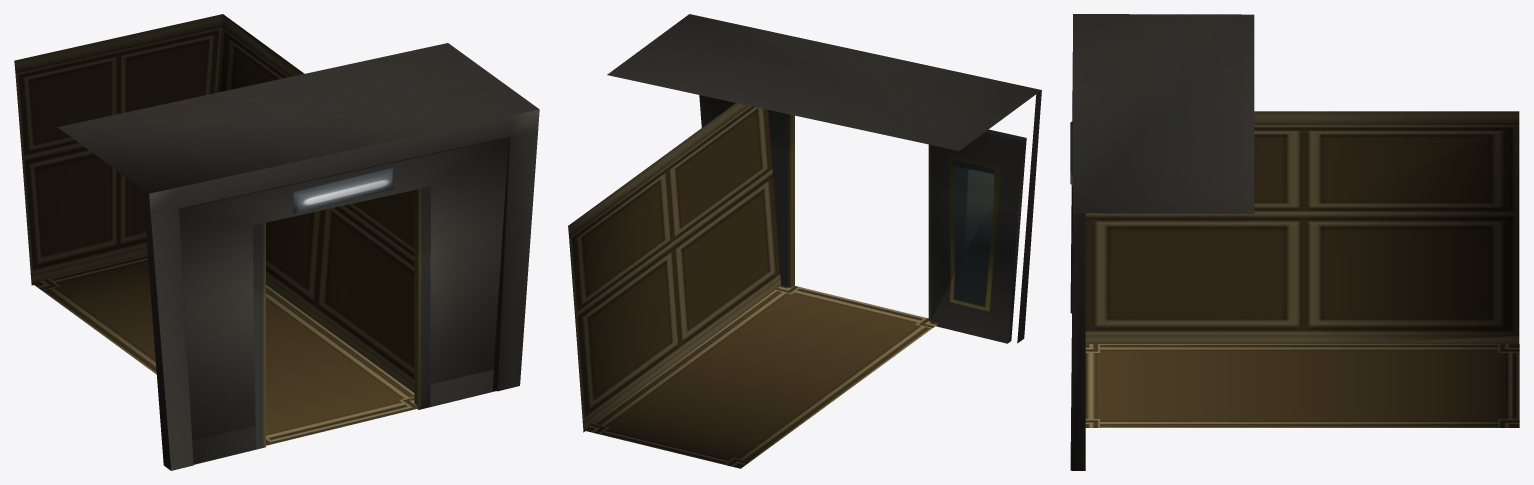
File: field_maze_exit.glb
The picture shows the model from 3 angles, left to right: view 1: azimuth 30°, elevation 25°; view 2: azimuth 150°, elevation 25°; view 3: azimuth 270°, elevation 25°; orthographic projection. The views are drawn at different scales.
Visible parts, largest first — view 1: frame, elevator, exitDoor, right_door, left_door, light; view 2: elevator, exitDoor, frame, left_door, right_door; view 3: elevator, frame, exitDoor.
Part boxes in pixels (x1,y1,x2,y2): frame: [57, 43, 539, 470]; elevator: [14, 14, 417, 445]; exitDoor: [32, 255, 417, 442]; right_door: [414, 186, 495, 409]; left_door: [193, 222, 265, 464]; light: [293, 168, 392, 213]; elevator: [568, 103, 780, 432]; exitDoor: [583, 285, 937, 468]; frame: [607, 14, 1041, 343]; left_door: [928, 129, 1026, 343]; right_door: [699, 95, 794, 287]; elevator: [1085, 111, 1519, 343]; frame: [1070, 14, 1254, 470]; exitDoor: [1085, 344, 1519, 427].
Bounding box in the file's own units: 17.93 × 12.46 × 18.05.
2 materials, 2 textured.
